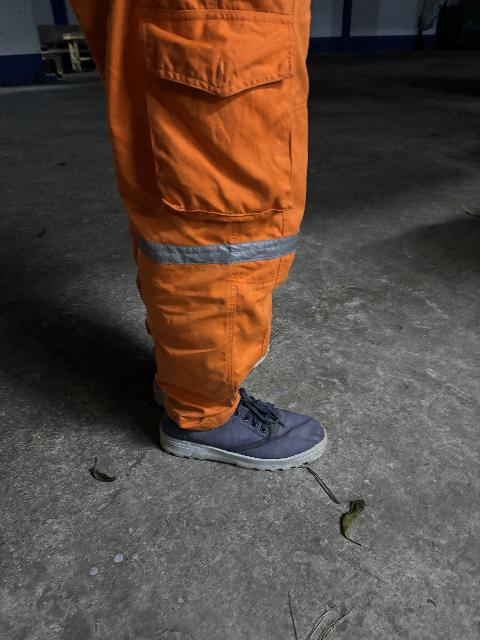shoes: (162, 392, 343, 477)
